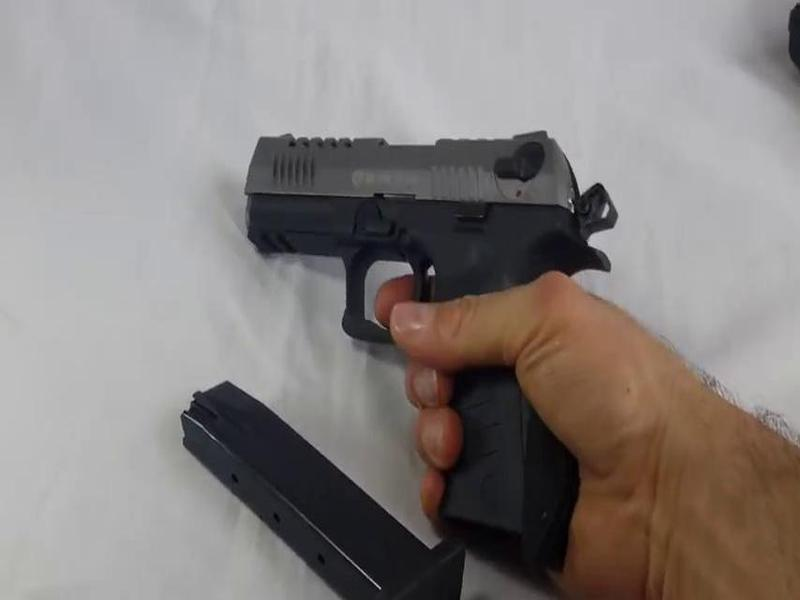Pistola: (221, 93, 616, 534)
